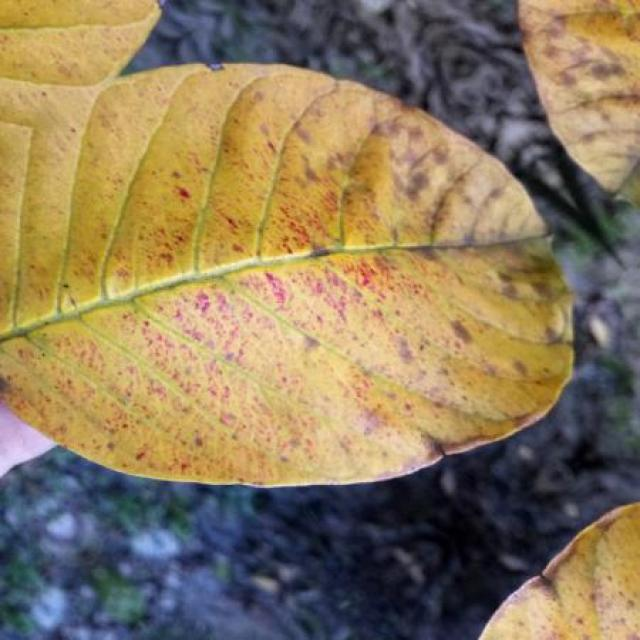Red Rust: (479, 504, 640, 639)
